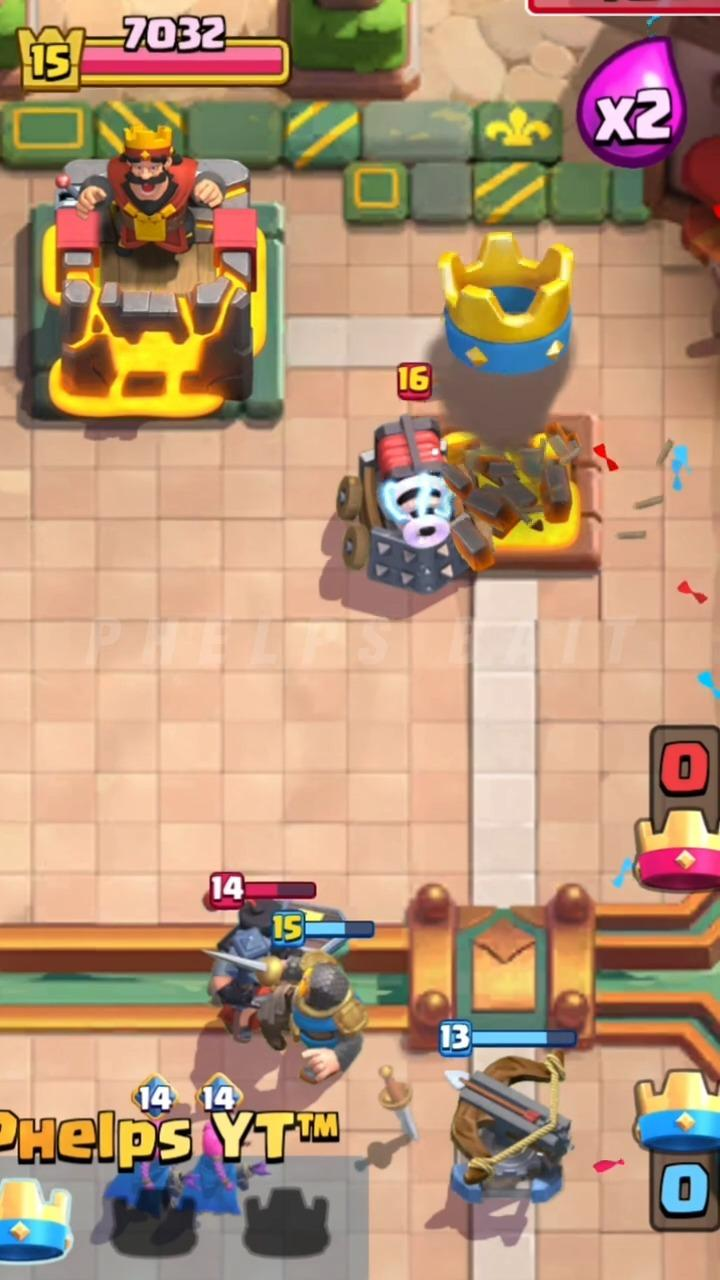archer: (178, 1120, 247, 1215)
dark prince: (209, 899, 290, 1038)
knight: (257, 950, 367, 1084)
sparky: (336, 414, 469, 595)
x-bow: (446, 1048, 572, 1204)
